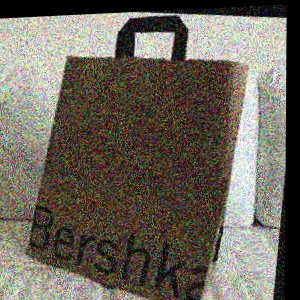bershka: (192, 133, 245, 300)
